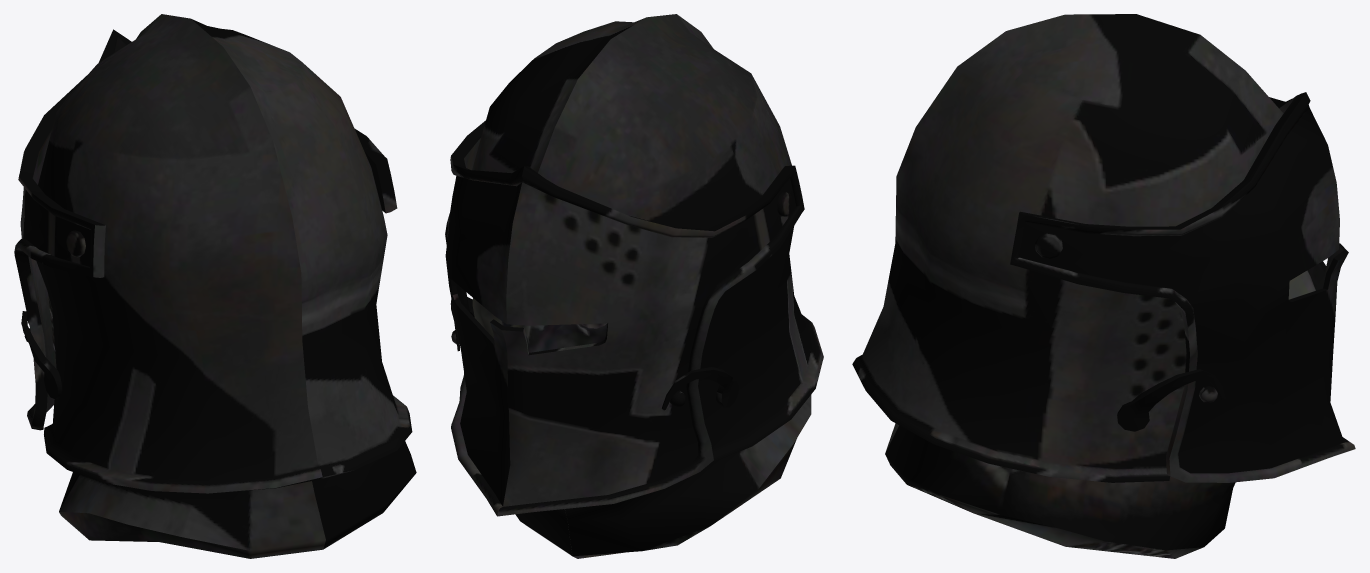
3 views of the same model, side by side, from view 1: azimuth 30°, elevation 25°; view 2: azimuth 150°, elevation 25°; view 3: azimuth 270°, elevation 25° (orthographic). The views are drawn at different scales.
Parts seen in each view (by area): view 1: mesh_0; view 2: mesh_0; view 3: mesh_0.
Part boxes in pixels (box(x1,y1,x2,y2)): mesh_0: box(14, 14, 416, 558); mesh_0: box(445, 14, 823, 558); mesh_0: box(852, 14, 1355, 558).
Bounding box in the file's own units: 9.19 × 14.35 × 12.5.
1 material, 1 textured.
